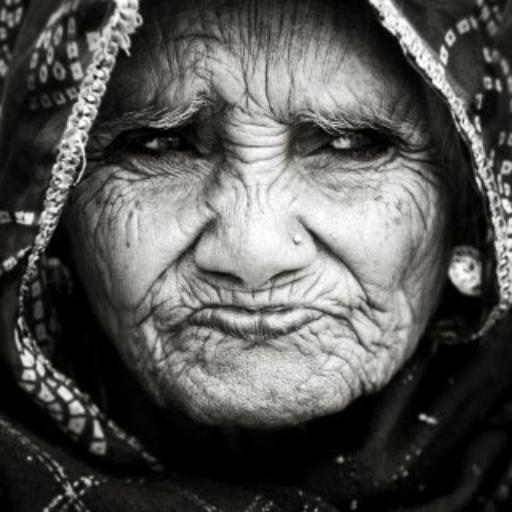left_eye: (310, 129, 395, 170)
left_lip_corner: (316, 298, 360, 328)
right_eye: (105, 124, 202, 167)
right_lip_corner: (185, 296, 225, 322)
